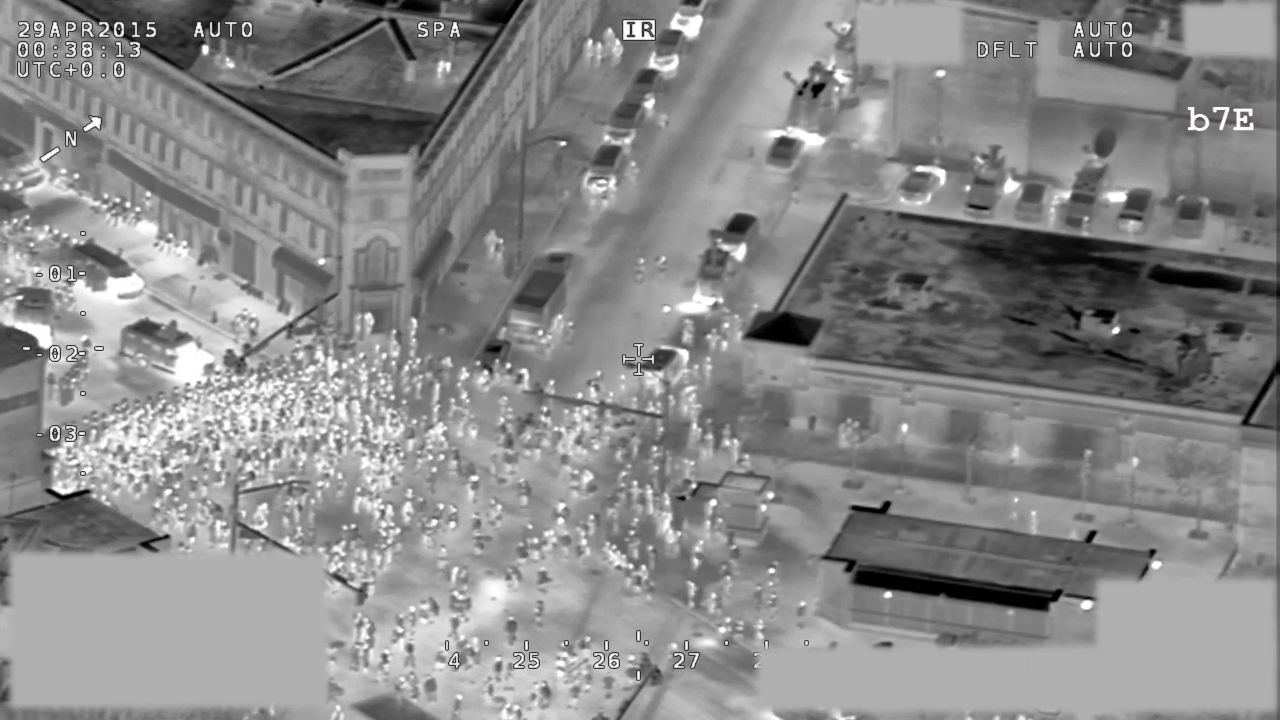vehicle: (499, 249, 582, 357), (113, 314, 221, 391), (1061, 123, 1123, 232), (775, 62, 851, 139), (67, 237, 150, 307), (962, 141, 1016, 218), (689, 227, 738, 311), (8, 282, 59, 357), (577, 141, 633, 207), (897, 158, 952, 211), (598, 97, 653, 147), (637, 344, 693, 390), (715, 212, 763, 262), (1169, 191, 1216, 241), (1116, 184, 1160, 236), (645, 28, 688, 75), (764, 129, 807, 173), (474, 333, 516, 377), (1011, 180, 1053, 222), (624, 64, 667, 105)
